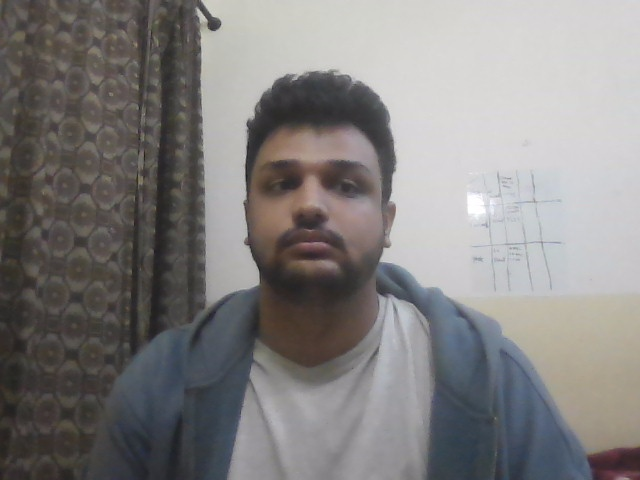awake: (184, 46, 486, 346)
